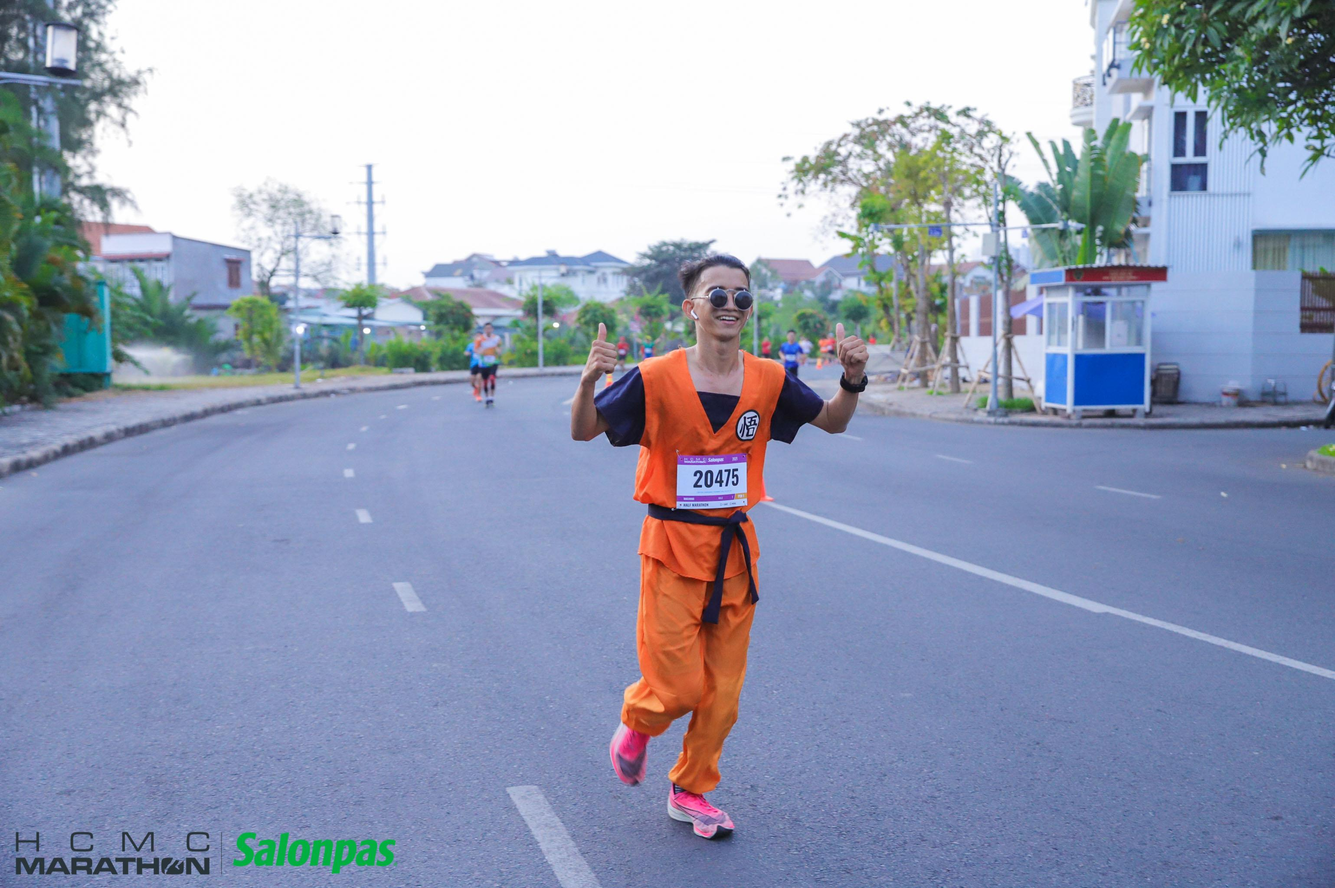bib: (677, 454, 752, 513)
